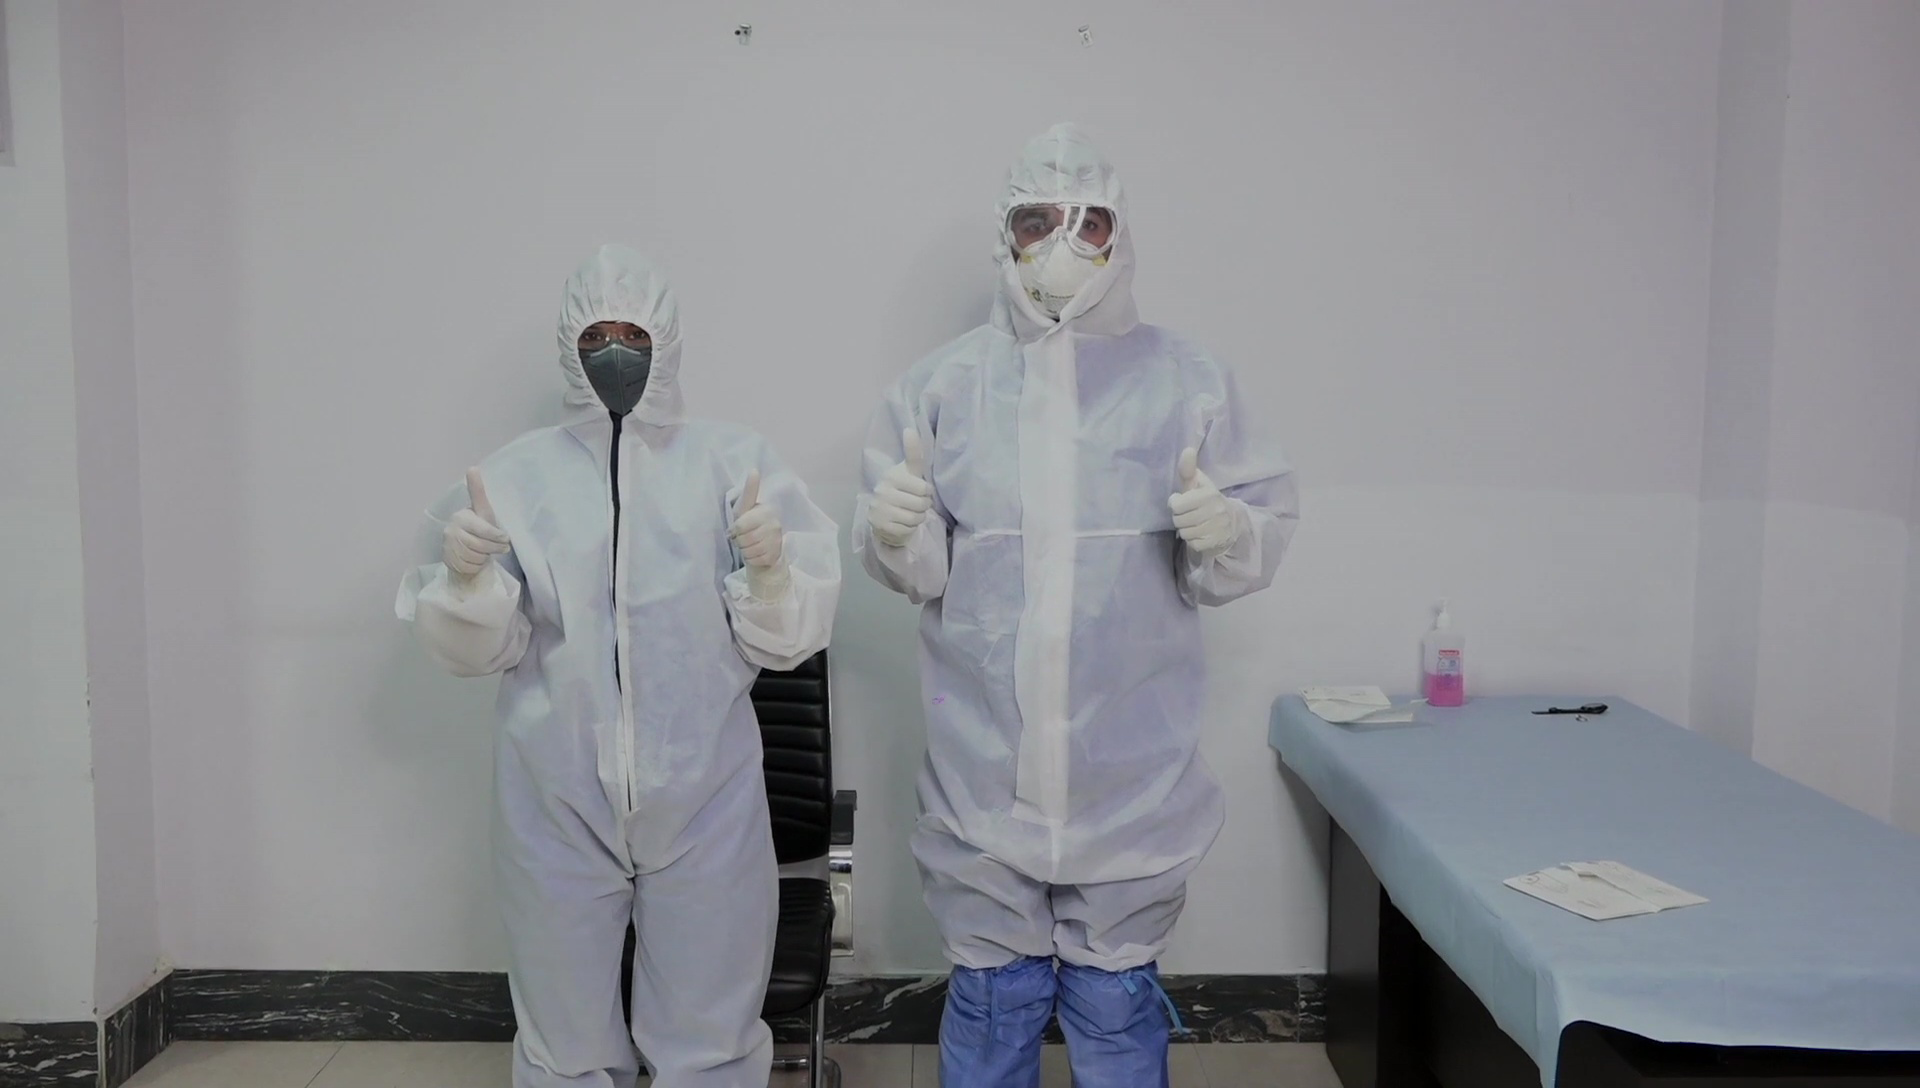Coverall: (846, 117, 1297, 1087), (396, 242, 844, 1083)
Gloves: (439, 462, 514, 583), (866, 423, 935, 553), (1164, 445, 1237, 557), (729, 469, 787, 576)
Goggles: (1006, 195, 1121, 262)
with_mask: (1016, 230, 1106, 324), (574, 344, 652, 414)
